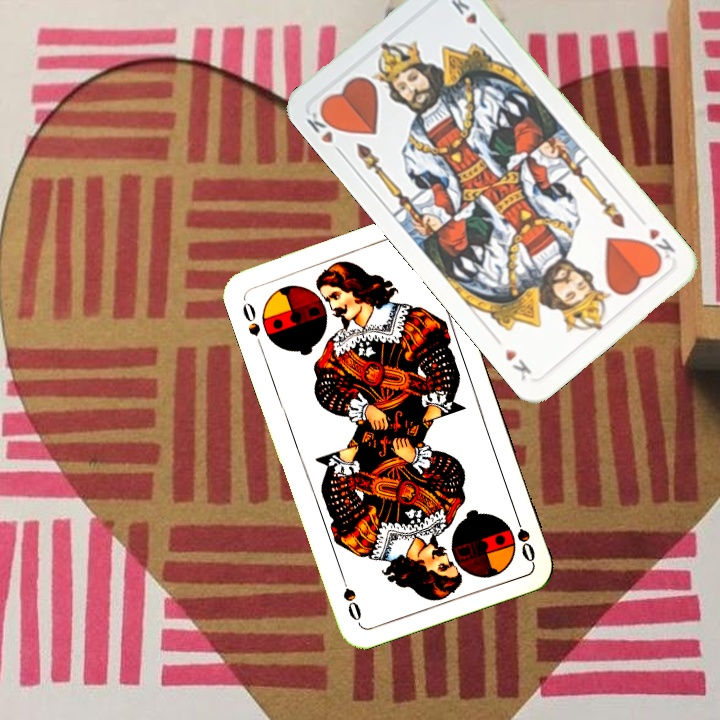HK: (302, 103, 346, 159), (640, 223, 678, 265)
SO: (509, 507, 538, 565), (238, 294, 263, 339)
